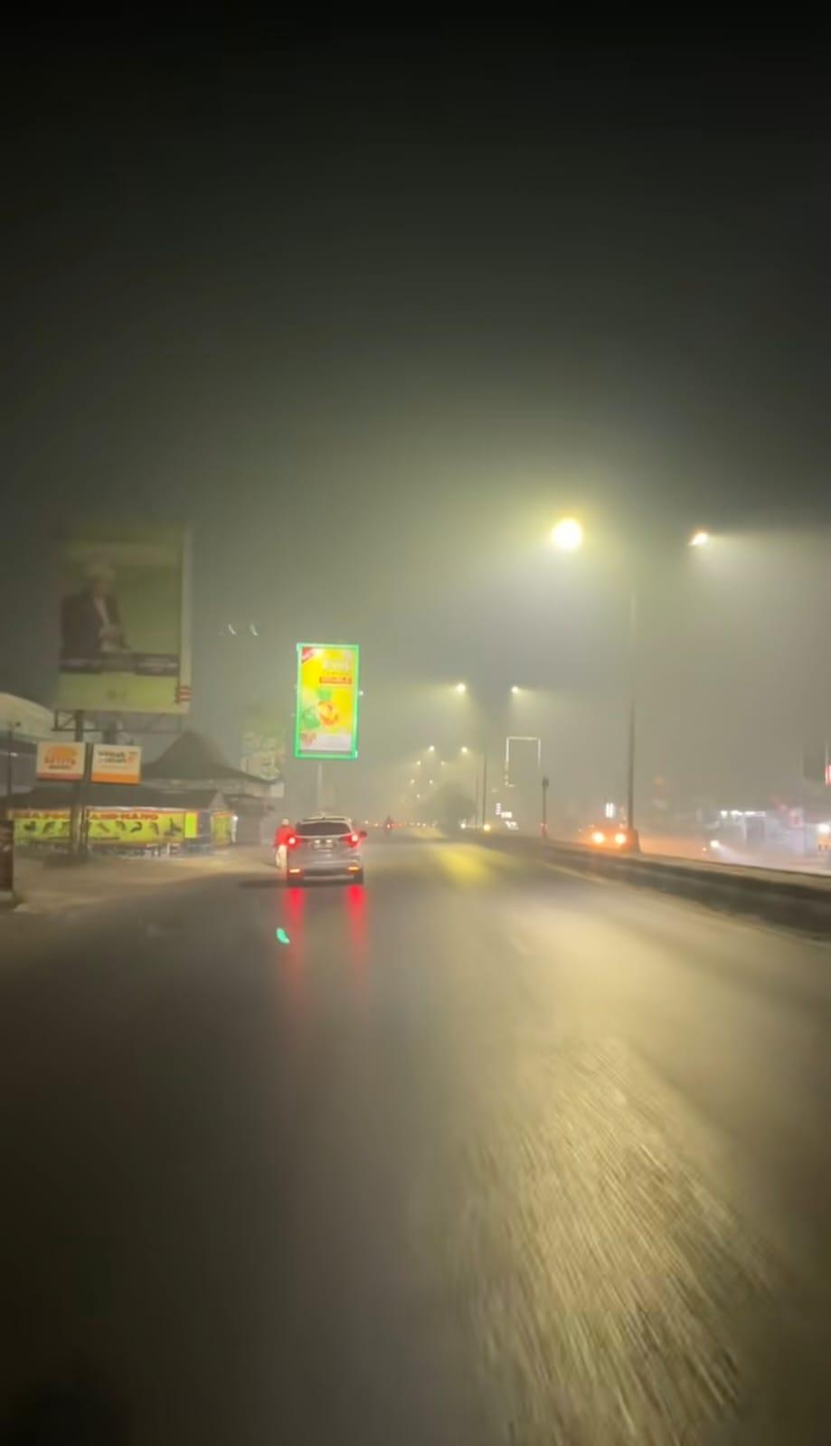Deteksi-Objek-Citra-Berasap: (0, 225, 830, 874)
Gedung: (0, 692, 281, 862), (707, 796, 831, 861)
Kendaraan: (284, 815, 366, 887), (580, 814, 641, 853), (370, 803, 400, 842)
Manusia: (273, 820, 296, 871)
